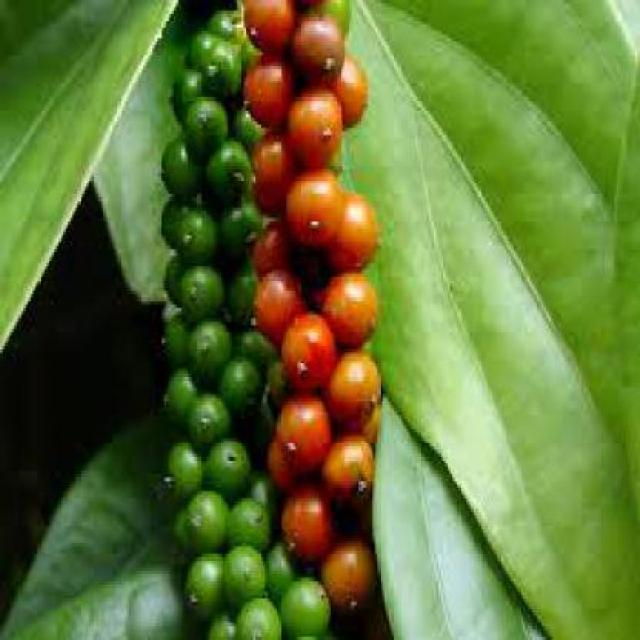RIPE: (282, 8, 396, 617)
UNRIPE: (155, 0, 277, 637)
